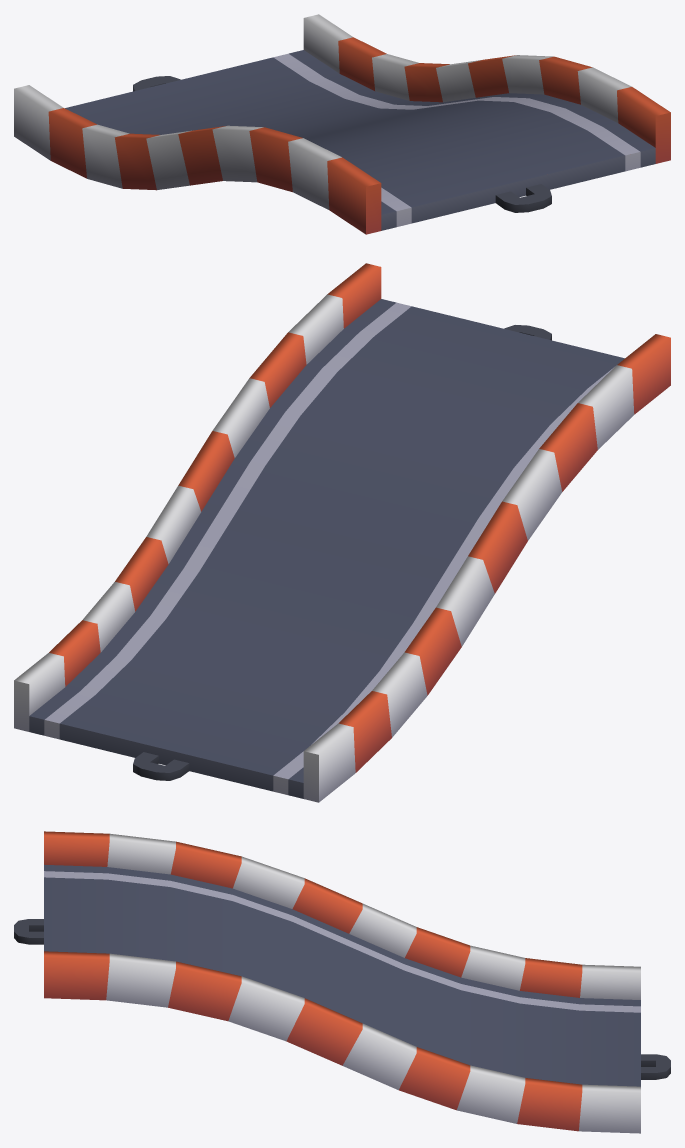
The model's file is track-road-wide-straight-hill-complete.glb.
3 views of the same model, one above another, from view 1: azimuth 30°, elevation 25°; view 2: azimuth 150°, elevation 25°; view 3: azimuth 270°, elevation 25° (orthographic). The views are drawn at different scales.
Visible parts, largest first — view 1: track-road-wide-straight-hill-complete; view 2: track-road-wide-straight-hill-complete; view 3: track-road-wide-straight-hill-complete.
Part boxes in pixels (x1=…): track-road-wide-straight-hill-complete: x1=14, y1=14, x2=670, y2=234; track-road-wide-straight-hill-complete: x1=14, y1=263, x2=670, y2=802; track-road-wide-straight-hill-complete: x1=14, y1=831, x2=670, y2=1133.
Size of the model in its own units: 2 by 1.3 by 4.4.
